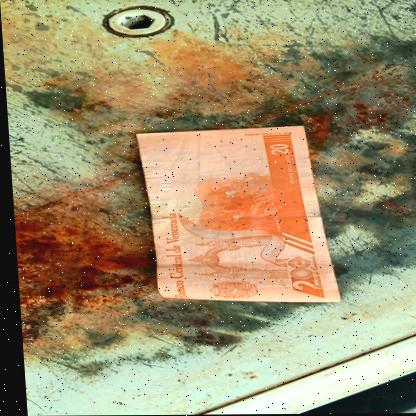twenty-back-vef: (133, 125, 336, 303)
